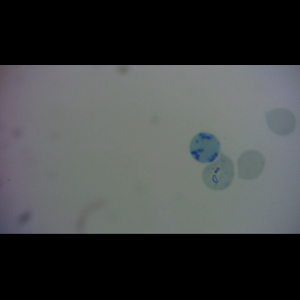aggregate reticulocyte: (189, 132, 221, 164)
erythrocyte: (201, 154, 236, 191), (264, 107, 298, 137), (235, 149, 266, 181)
